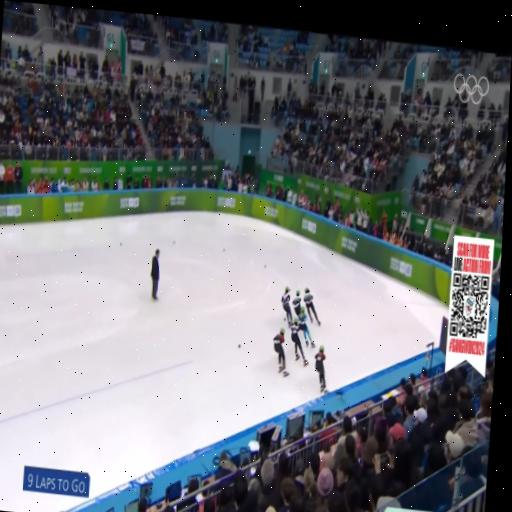Skater: (291, 318, 308, 365), (298, 308, 315, 347), (274, 329, 288, 376), (304, 288, 320, 325), (316, 345, 326, 392), (282, 287, 291, 327), (293, 291, 301, 315)
